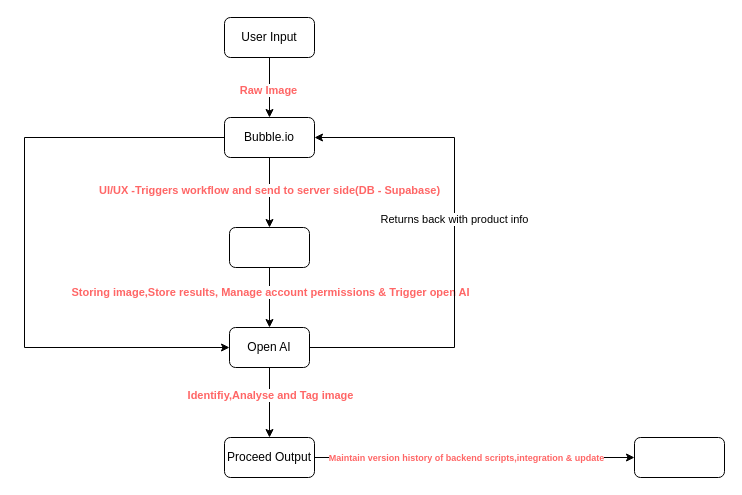
Some shapes in this 742 by 495 pixel diagram are drawn without their labels. The shapes that lost their labels are listed below. From the top down, each one's box as (x1, y1, x2, y2) in pixels, then its label:
(228, 226, 310, 268): Supabase
(634, 436, 724, 478): GitHub
